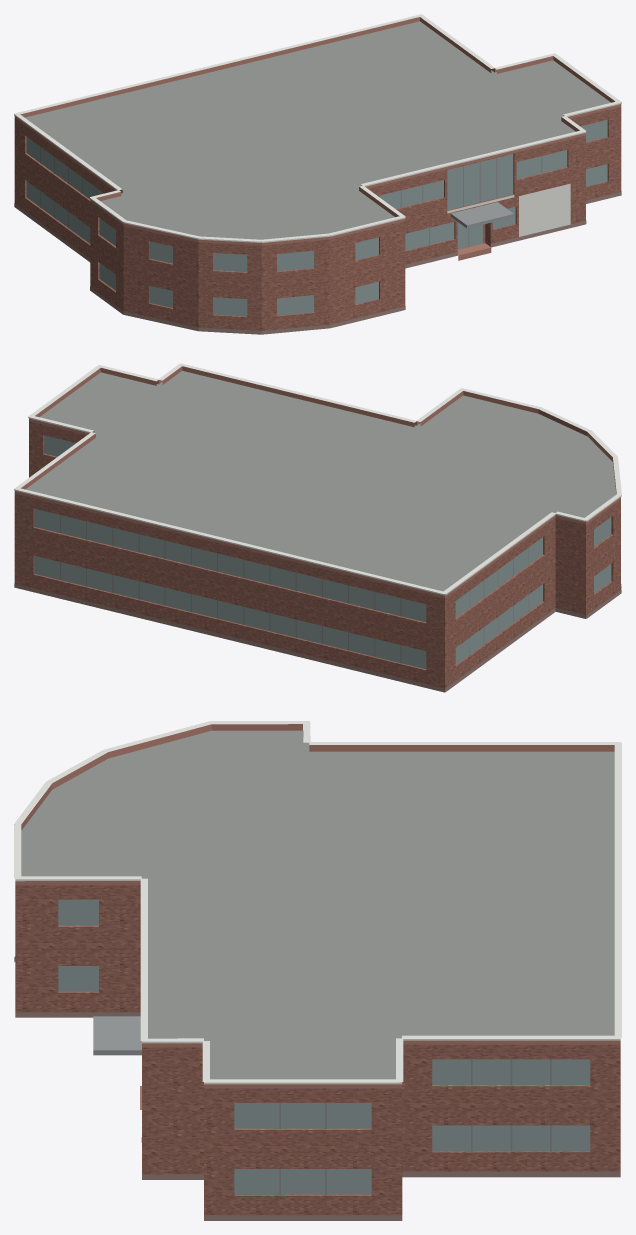
The picture shows the model from 3 angles, top to bottom: view 1: azimuth 30°, elevation 25°; view 2: azimuth 150°, elevation 25°; view 3: azimuth 270°, elevation 25°; orthographic projection. The views are drawn at different scales.
Visible parts, largest first — view 1: b115951822__roof, b115951822__wall, b115951822__glass, b115951822__parapet, b115951822__trim, b115951822__base, b115951822__wall2, b115951822__canopy, b115951822__frame; view 2: b115951822__roof, b115951822__wall, b115951822__glass, b115951822__trim, b115951822__parapet, b115951822__base, b115951822__frame; view 3: b115951822__roof, b115951822__wall, b115951822__glass, b115951822__trim, b115951822__parapet, b115951822__base, b115951822__canopy.
Part boxes in pixels (<box>): b115951822__roof: <box>25,21,610,239</box>; b115951822__wall: <box>14,106,621,330</box>; b115951822__glass: <box>26,119,607,316</box>; b115951822__parapet: <box>14,17,621,245</box>; b115951822__trim: <box>14,14,621,242</box>; b115951822__base: <box>14,191,621,334</box>; b115951822__wall2: <box>519,183,570,236</box>; b115951822__canopy: <box>450,202,513,228</box>; b115951822__frame: <box>40,146,542,246</box>; b115951822__roof: <box>25,370,616,591</box>; b115951822__wall: <box>14,421,620,691</box>; b115951822__glass: <box>34,435,611,669</box>; b115951822__trim: <box>14,363,621,595</box>; b115951822__parapet: <box>14,366,620,598</box>; b115951822__base: <box>14,583,621,692</box>; b115951822__frame: <box>60,515,528,663</box>; b115951822__roof: <box>21,730,614,1079</box>; b115951822__wall: <box>15,885,620,1215</box>; b115951822__glass: <box>58,899,590,1194</box>; b115951822__trim: <box>14,721,621,1084</box>; b115951822__parapet: <box>15,724,620,1088</box>; b115951822__base: <box>14,956,620,1220</box>; b115951822__canopy: <box>93,1016,141,1055</box>.
Bounding box in the file's own units: 42.23 × 7.95 × 30.02.
Materials: 12 (1 with a texture image).
